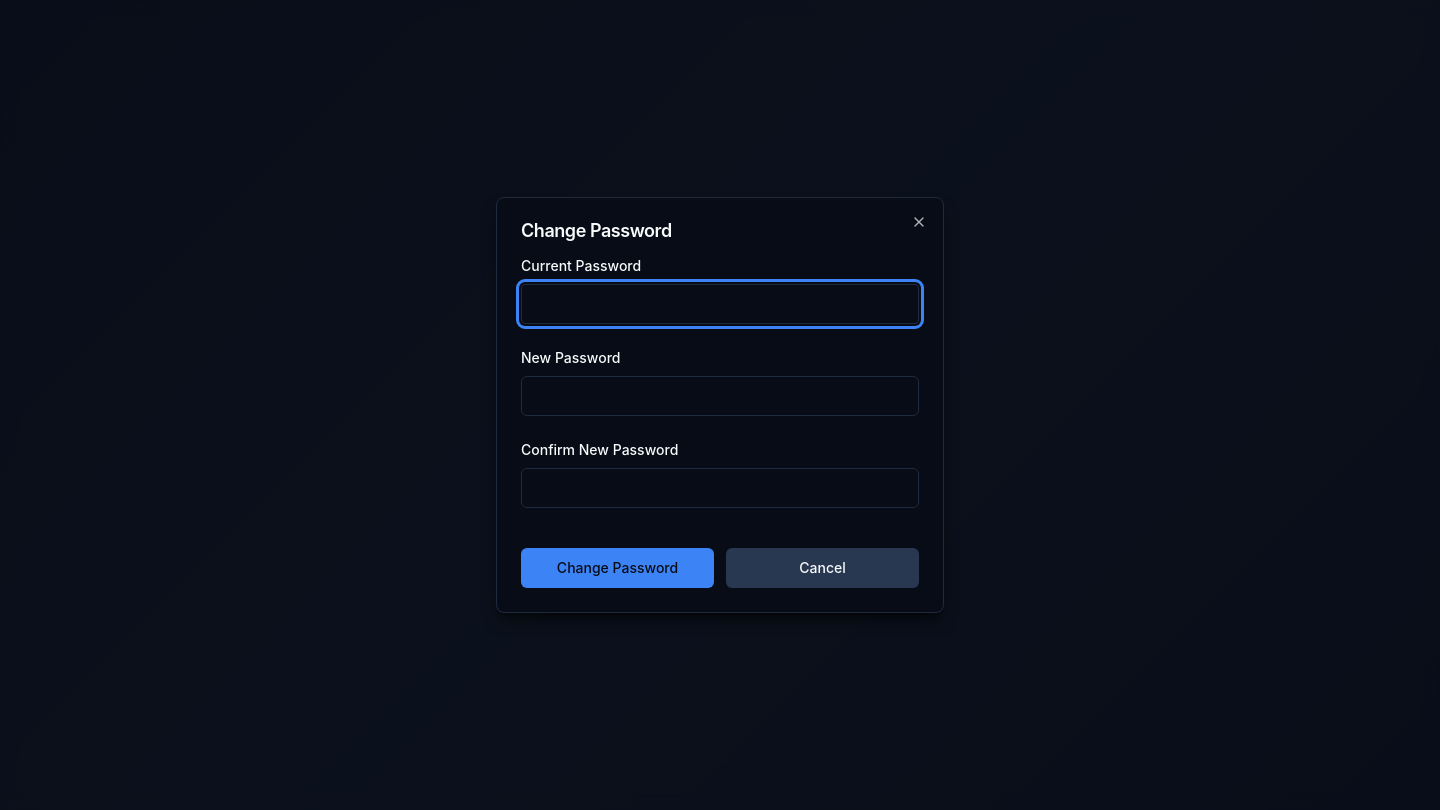
Test: ChangePasswordDialog › rejects submission with an empty new password
In the password field labelled "Current Password": (720, 304) [521,284,919,324], type "oldpassword1"
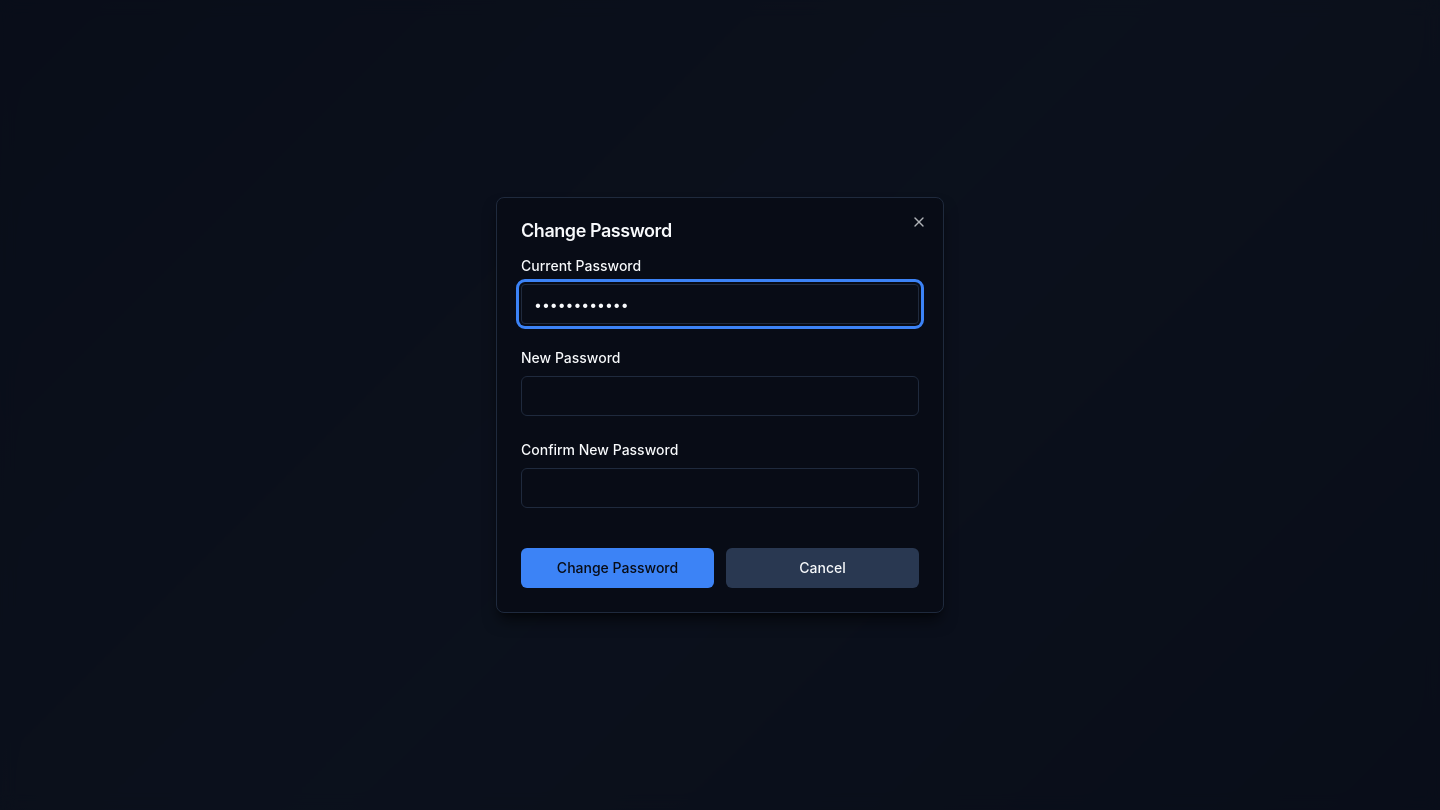
Submit the form labelled "Current Password", box [521,256,919,588]
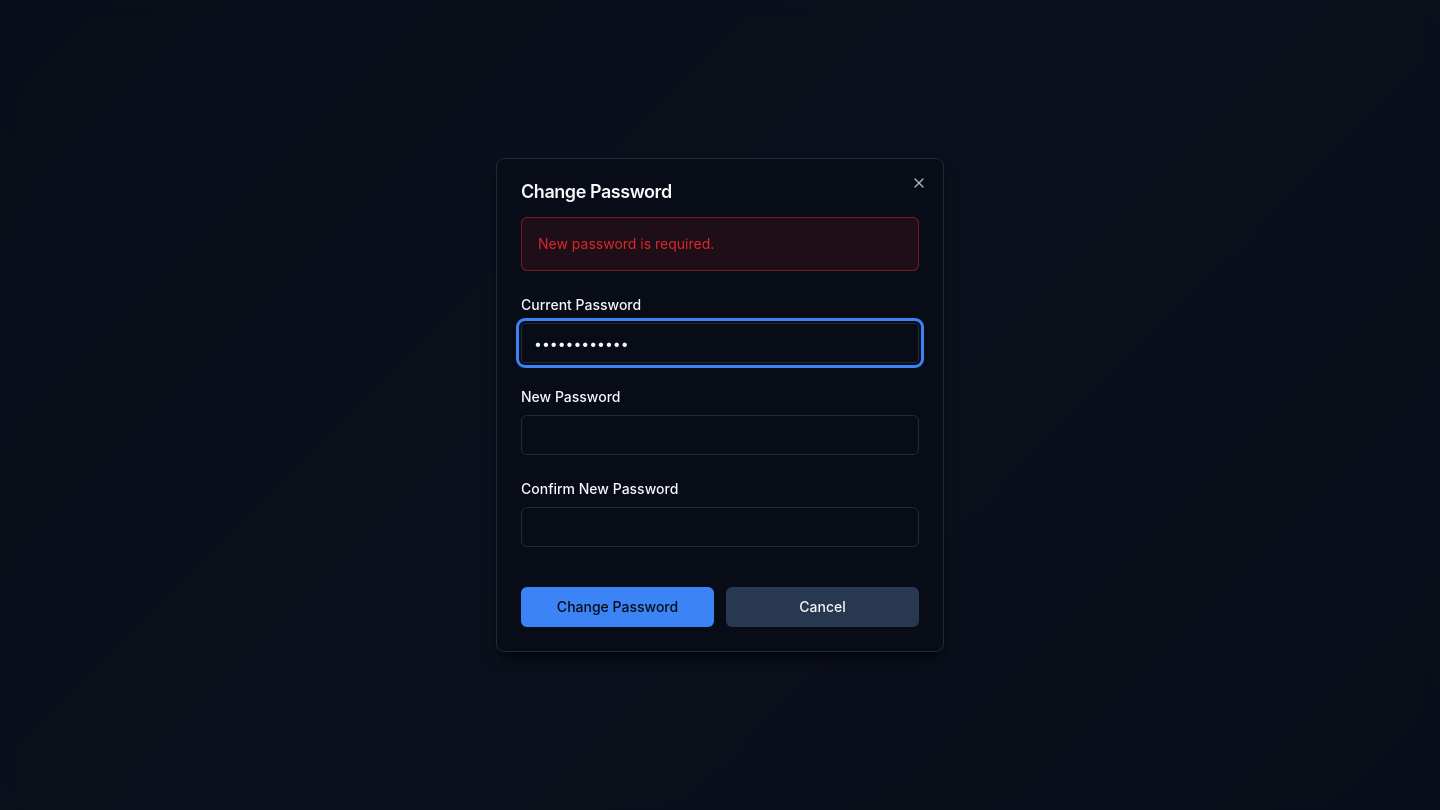
Expected: the text "New password is required." is shown, [538,235,714,252]
